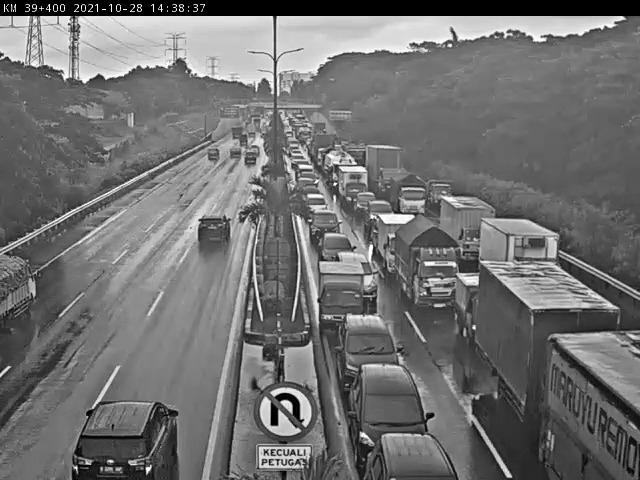big truck: (485, 264, 620, 411), (541, 330, 640, 480), (478, 220, 562, 284), (365, 144, 406, 201)
car: (73, 395, 187, 480), (339, 361, 436, 442), (362, 427, 459, 480), (332, 310, 404, 380), (193, 207, 236, 260), (313, 230, 359, 262), (306, 211, 351, 241), (363, 200, 394, 234), (296, 192, 331, 217), (354, 191, 378, 215)
small truck: (395, 220, 459, 309), (436, 195, 504, 264), (0, 254, 50, 335), (312, 257, 372, 318), (378, 214, 420, 274), (456, 270, 484, 343), (396, 174, 433, 217), (425, 177, 455, 211), (337, 166, 364, 200)
